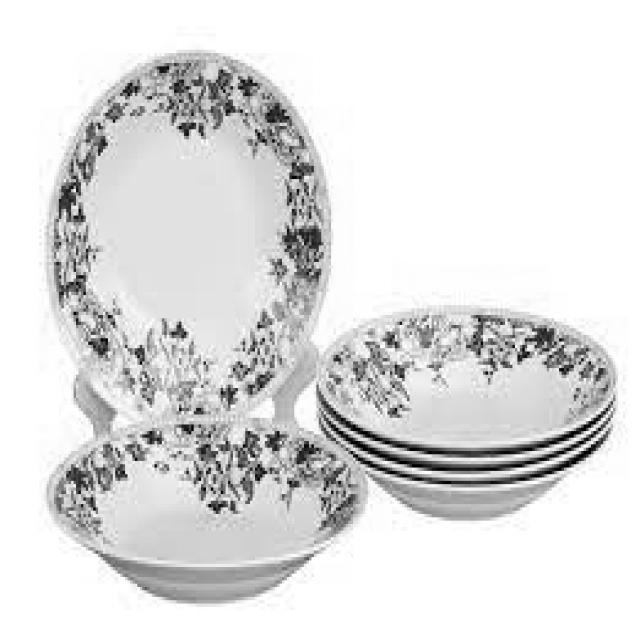dish: (13, 397, 410, 623)
